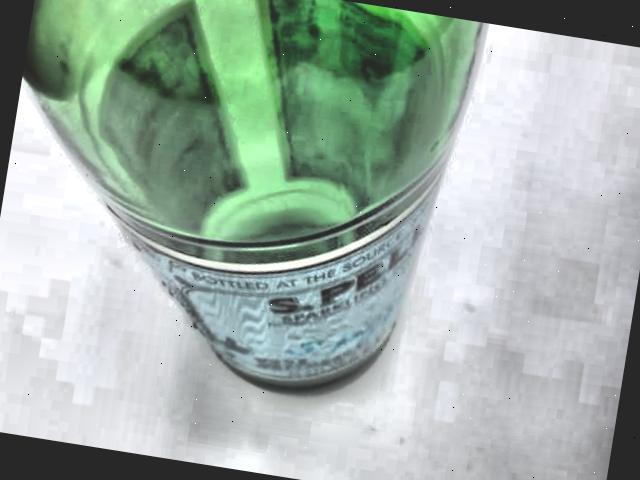Bottles: (0, 0, 504, 448)
